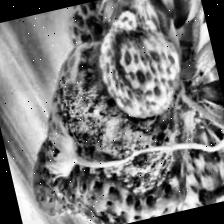Gray Mold: (29, 20, 216, 224)
